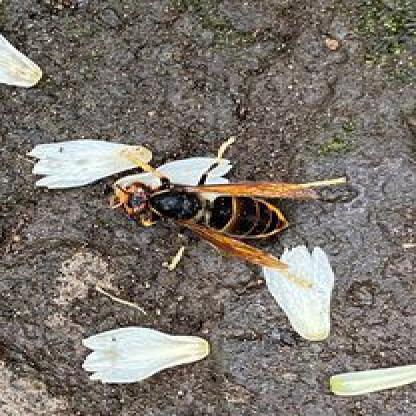Asian Hornet: (105, 135, 356, 273)
